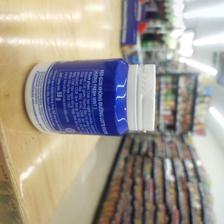Xylitol_blue: (24, 58, 157, 139)
